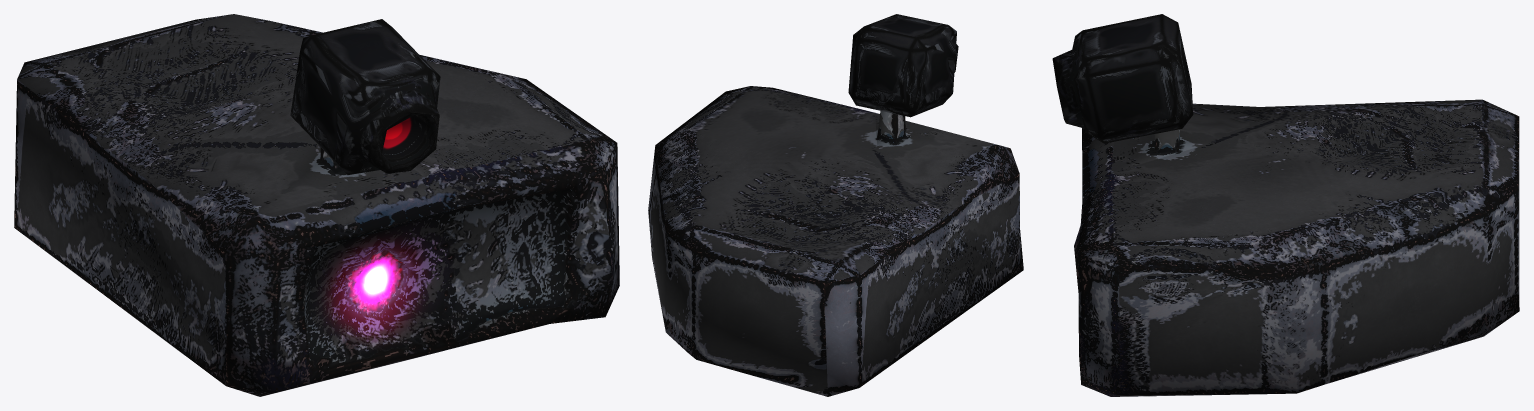
The model's file is Laser.fbx.
3 views of the same model, side by side, from view 1: azimuth 30°, elevation 25°; view 2: azimuth 150°, elevation 25°; view 3: azimuth 270°, elevation 25° (orthographic). The views are drawn at different scales.
Parts seen in each view (by area): view 1: Laser; view 2: Laser; view 3: Laser.
Boxes of the visible parts, left/top/right/bottom form: Laser: left=14, top=14, right=619, bottom=396; Laser: left=648, top=14, right=1023, bottom=396; Laser: left=1052, top=14, right=1519, bottom=396.
Size of the model in its own units: 91.41 by 69.97 by 107.
